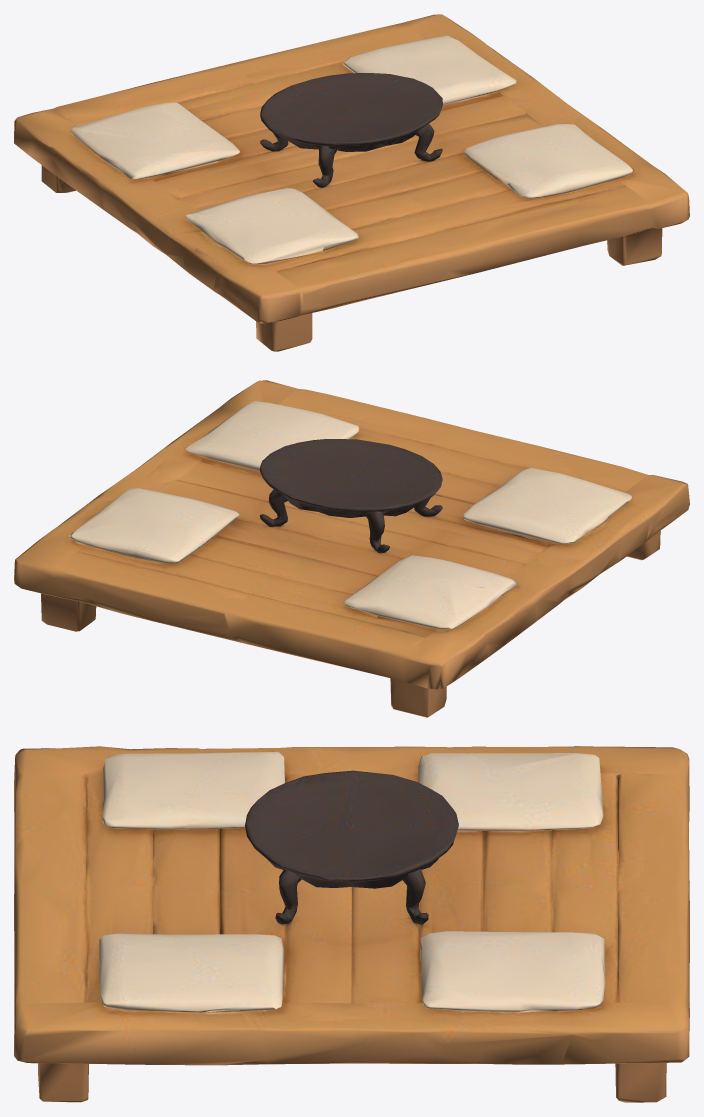
Rendered from KR_사물_s1_seat_pyeong.glb.
3 renders of one model, top to bottom at view 1: azimuth 30°, elevation 25°; view 2: azimuth 150°, elevation 25°; view 3: azimuth 270°, elevation 25°, orthographic. The views are drawn at different scales.
Visible parts, largest first — view 1: tripo_node_3d0dd29f-9aef-4fa3-aecf-493e5c239428; view 2: tripo_node_3d0dd29f-9aef-4fa3-aecf-493e5c239428; view 3: tripo_node_3d0dd29f-9aef-4fa3-aecf-493e5c239428.
Part boxes in pixels (x1,y1,x2,y2): tripo_node_3d0dd29f-9aef-4fa3-aecf-493e5c239428: (14, 14, 689, 351); tripo_node_3d0dd29f-9aef-4fa3-aecf-493e5c239428: (14, 380, 689, 717); tripo_node_3d0dd29f-9aef-4fa3-aecf-493e5c239428: (14, 746, 689, 1102).
Bounding box in the file's own units: 2.6 × 0.6493 × 2.6.
Materials: 1 (1 with a texture image).
